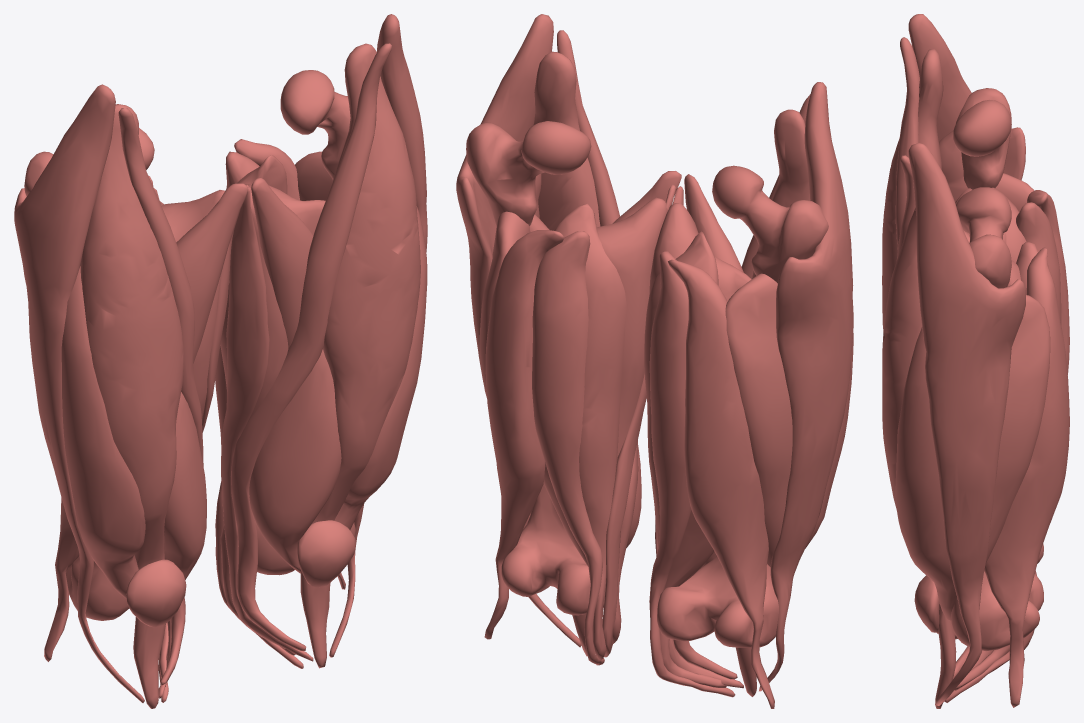
Rendered from thigh.glb.
3 views of the same model, side by side, from view 1: azimuth 30°, elevation 25°; view 2: azimuth 150°, elevation 25°; view 3: azimuth 270°, elevation 25° (orthographic). The views are drawn at different scales.
Parts seen in each view (by area): view 1: thigh__selectable; view 2: thigh__selectable; view 3: thigh__selectable.
Boxes of the visible parts, x1,y1,x2,y2 form: thigh__selectable: [14, 14, 427, 708]; thigh__selectable: [456, 14, 853, 708]; thigh__selectable: [882, 14, 1069, 708].
Size of the model in its own units: 3.1 by 4.94 by 1.42.
